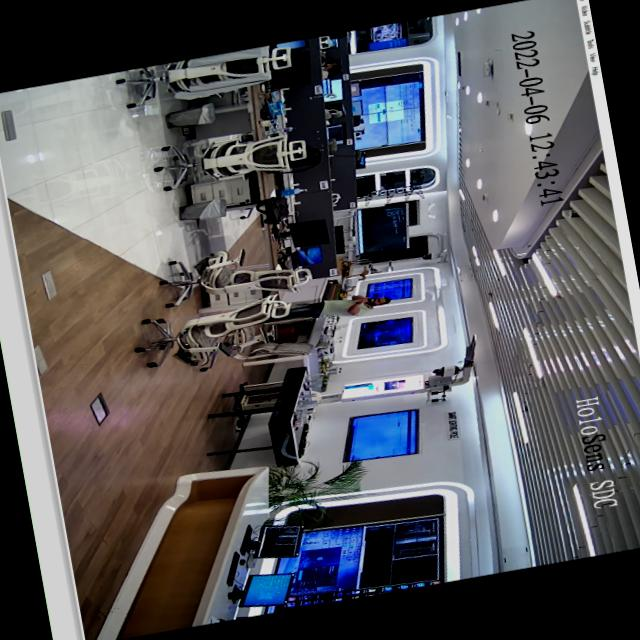long weapon: (358, 295, 379, 304)
